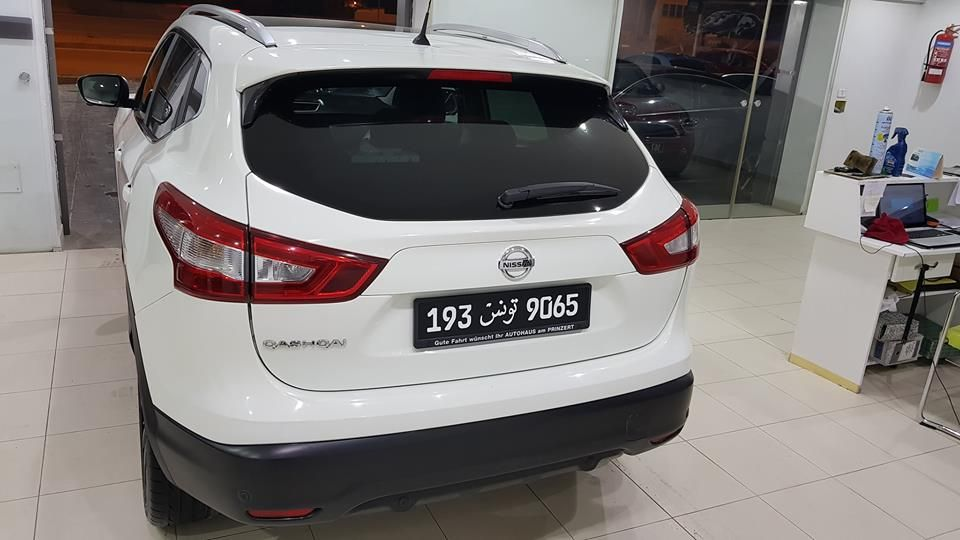LP: (416, 290, 587, 336)
